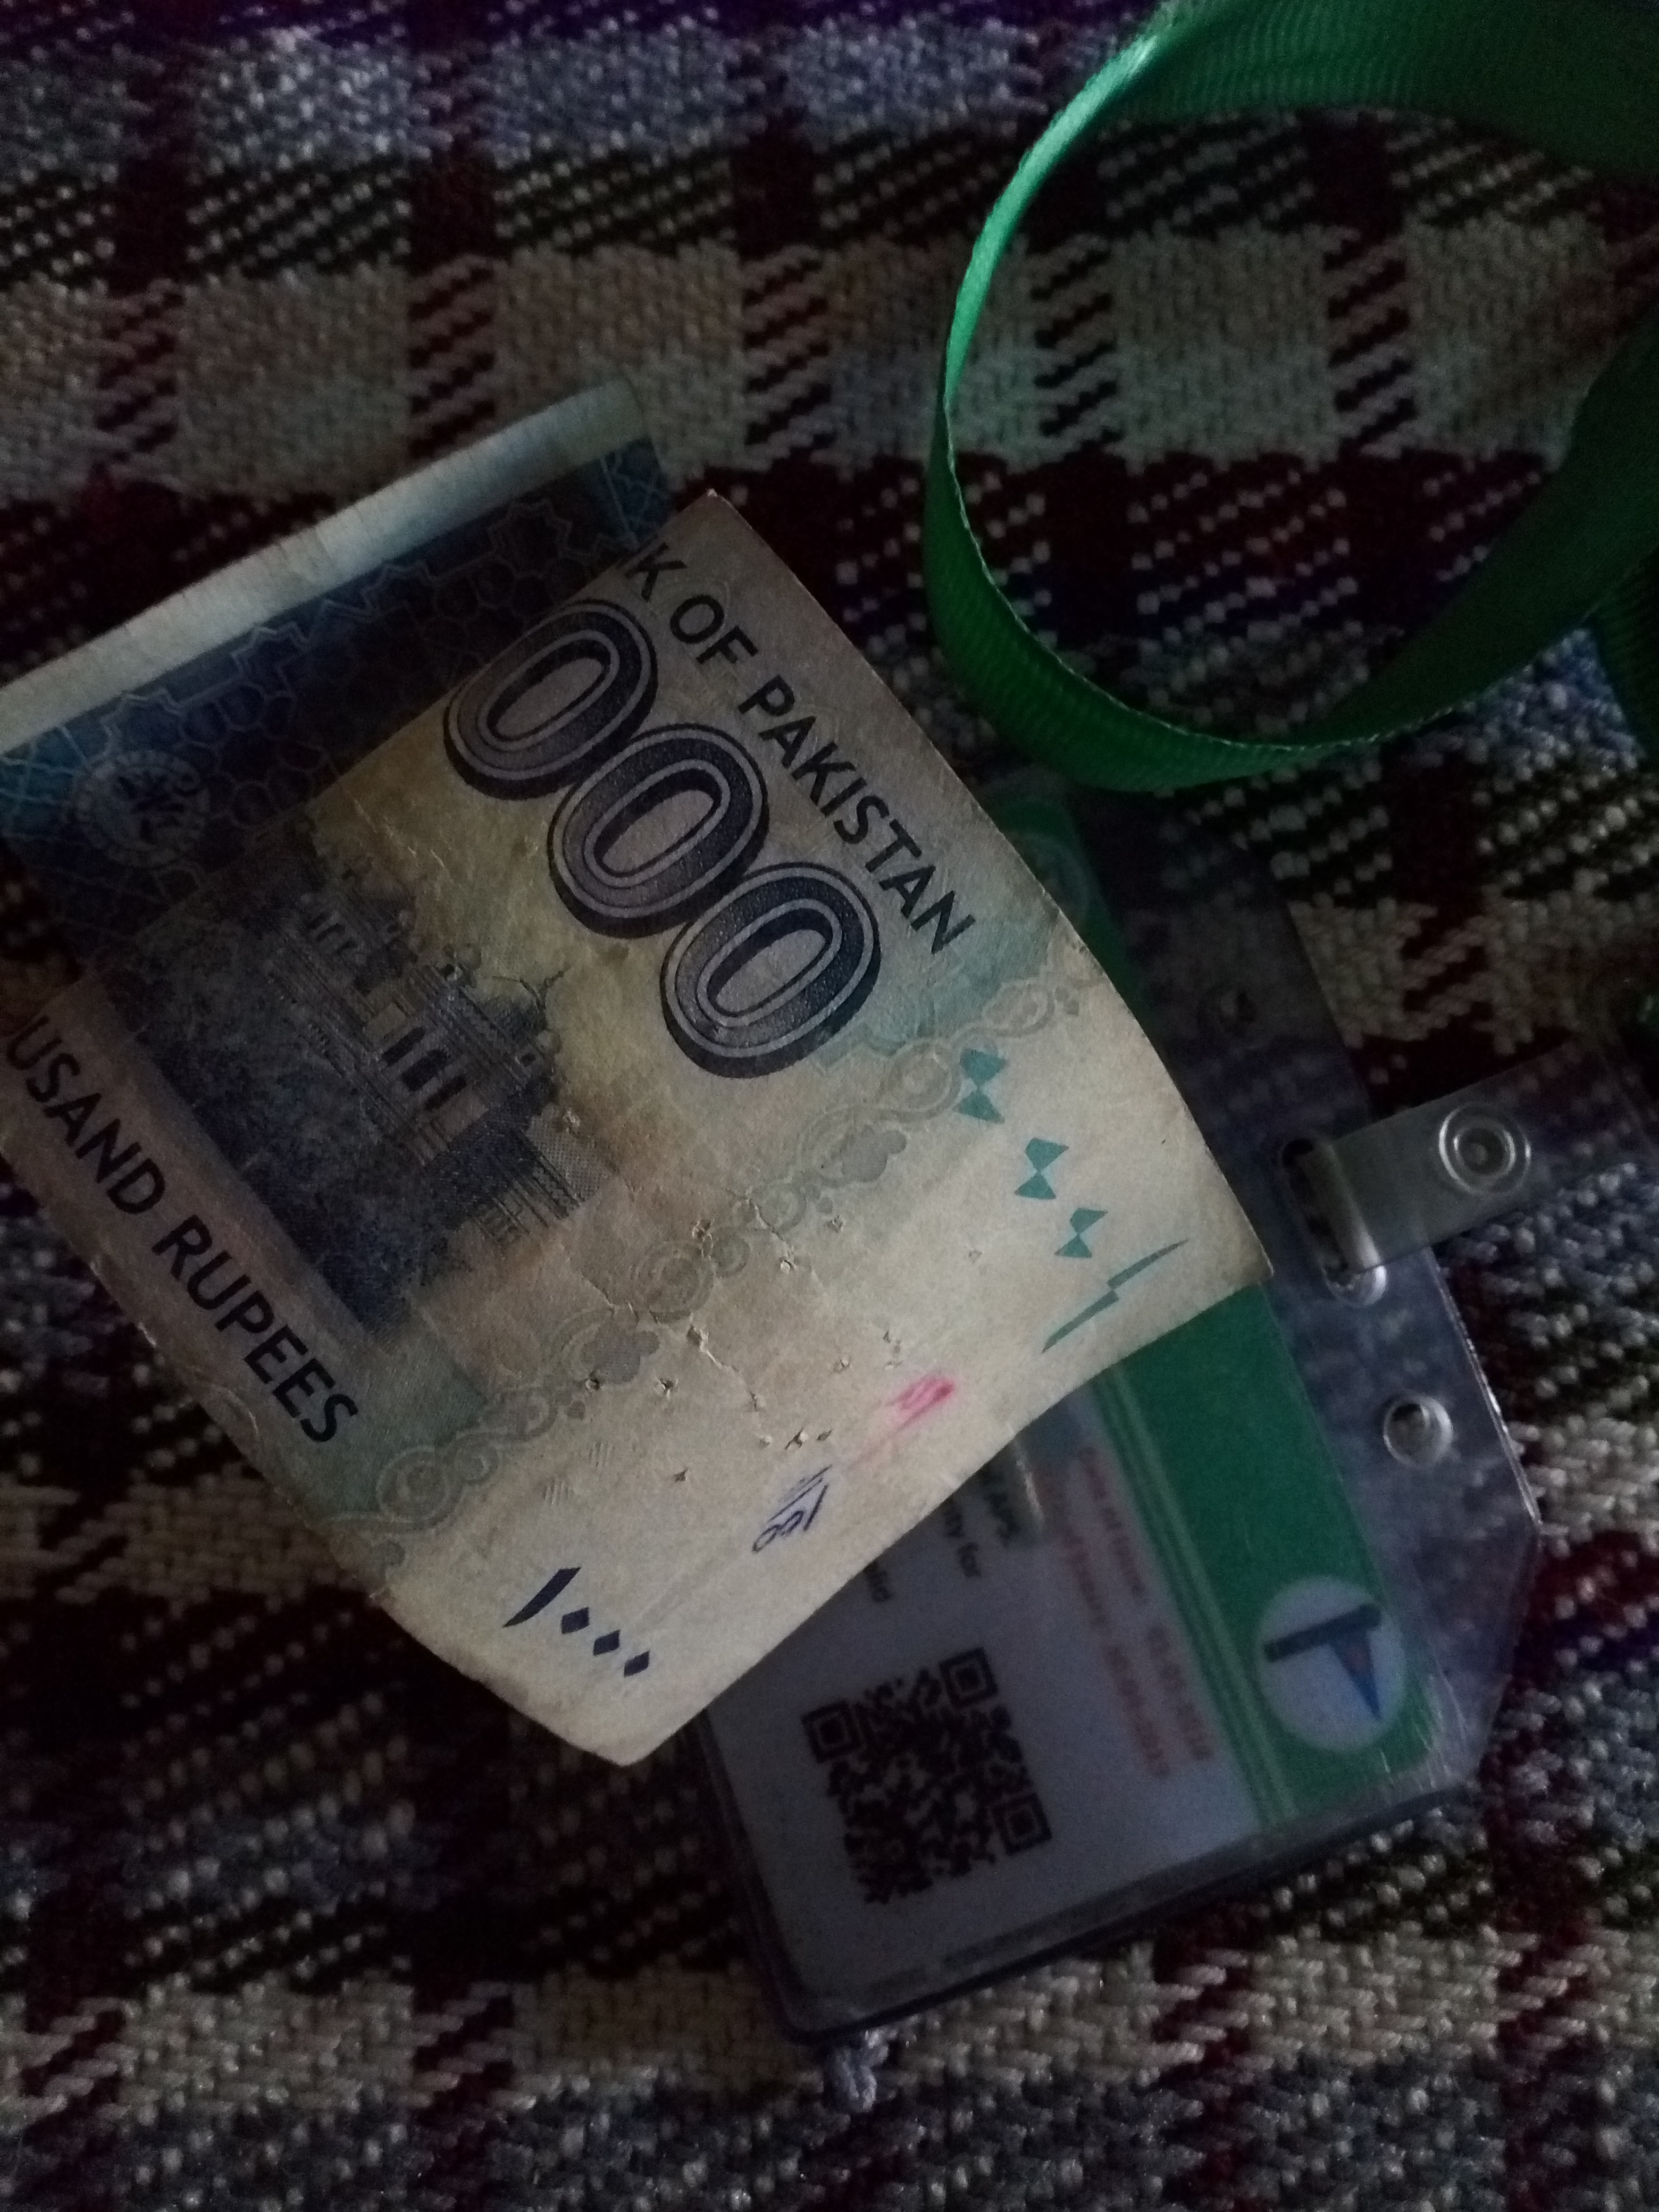1000 rupee: (2, 296, 1239, 1855)
